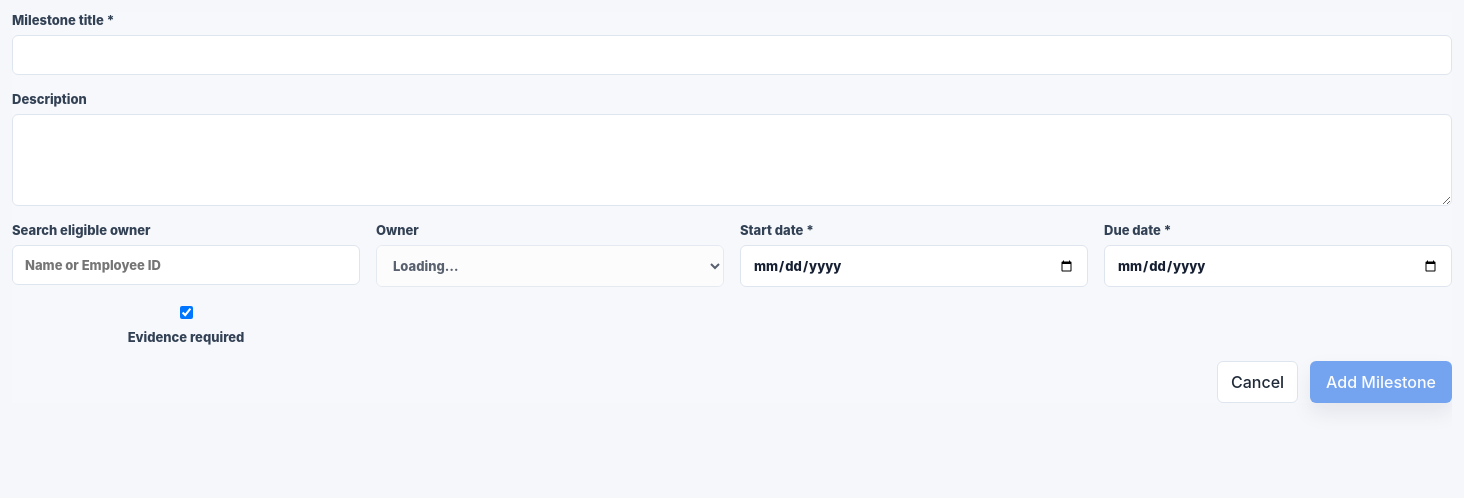
Test: F4 M1 milestone date persistence remediation › fails before mutation when milestone dates are missing or partial (2026-08-16 / )
Step 1. Type "Incomplete milestone" into the field labelled "Milestone title *" → [732, 55], box [12,35,1452,75]
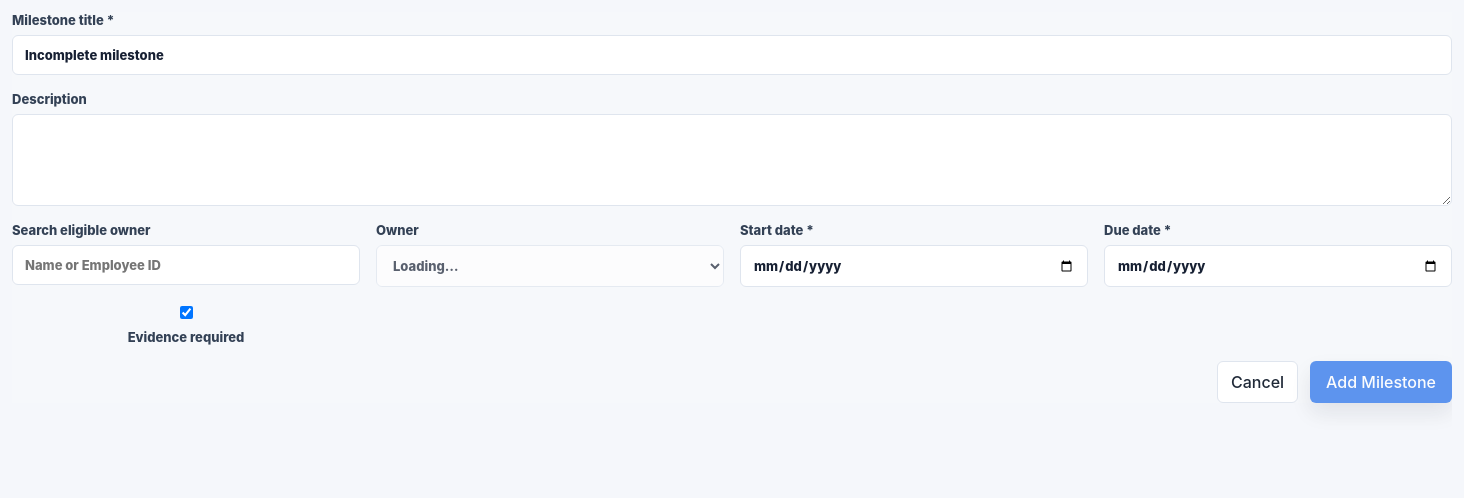
Step 2. Type "2026-08-16" into the date field labelled "Start date *" → [914, 266], box [740,245,1088,287]
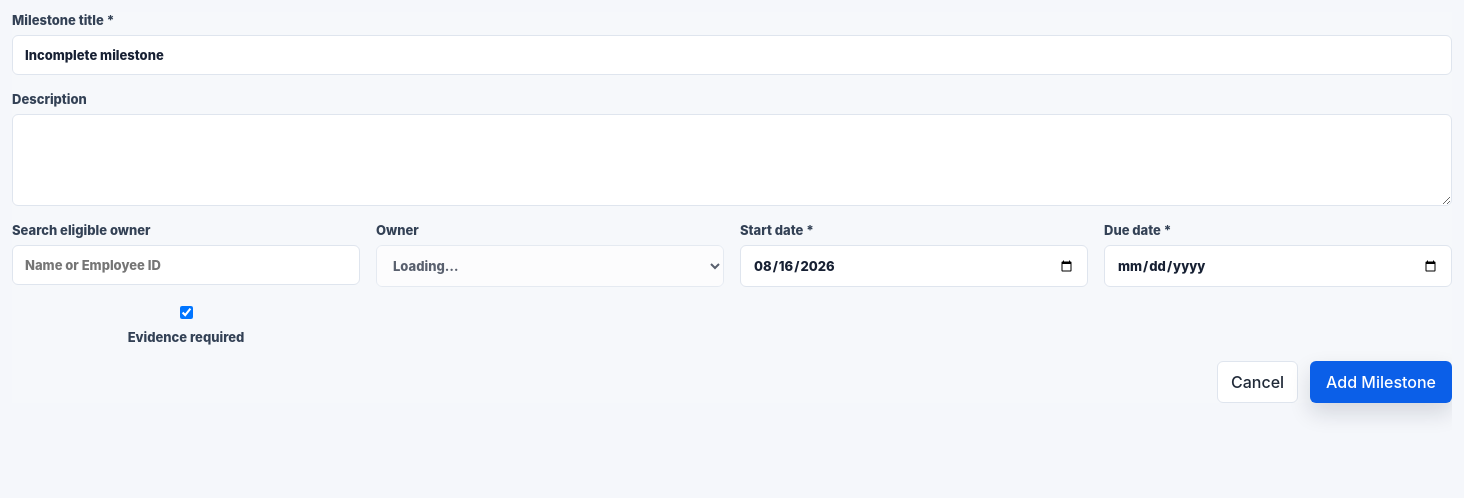
Step 3. Submit the form named "Add Milestone"
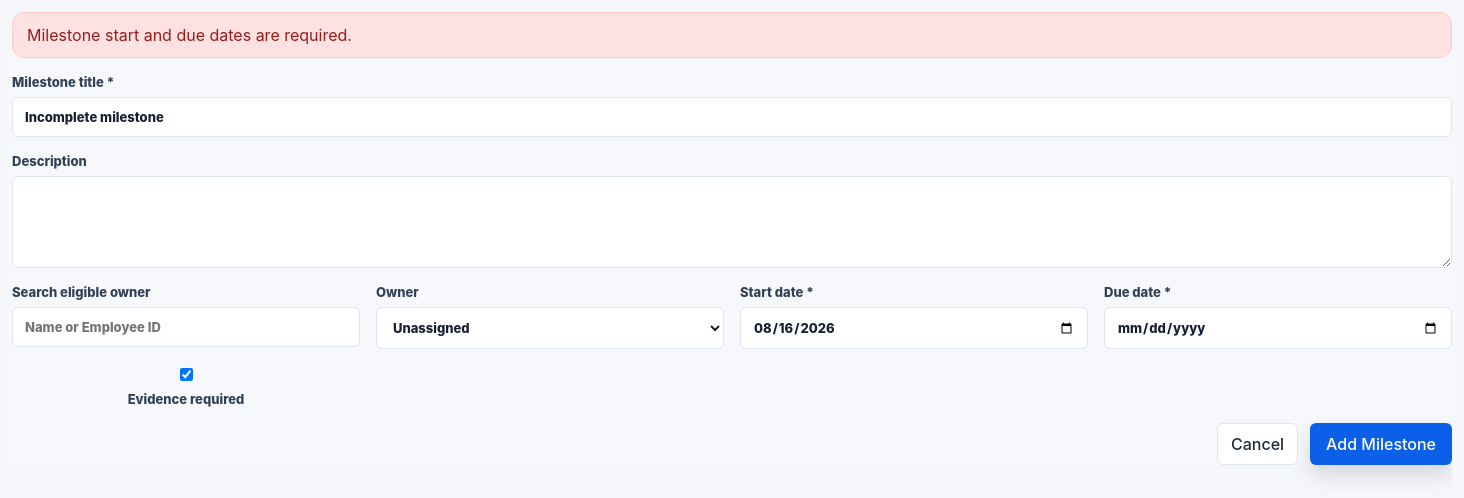
Result: the text "Milestone start and due dates are required." is shown at [12,12,1452,58]
